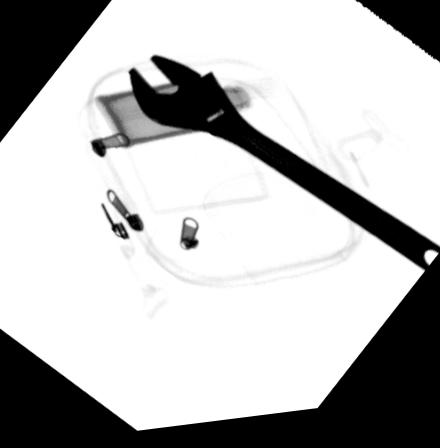Wrench: (125, 55, 440, 283)
